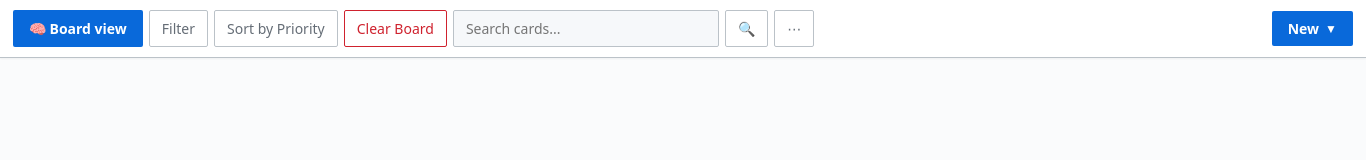
Test: KanbanToolbar › More Options Dropdown › should show more options dropdown when more button is clicked
The image size is (1366, 160).
Step 1. Click the button titled "More options" → (794, 28), box [774,10,814,47]
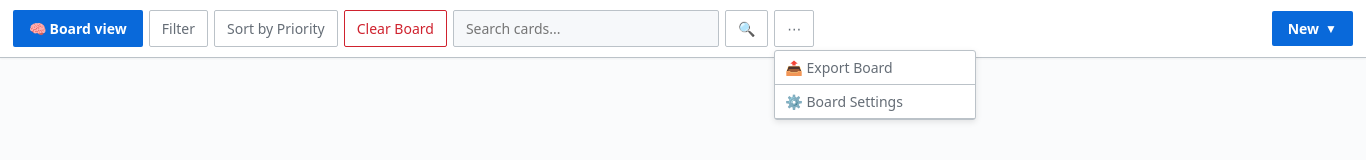
Check: the text "📤 Export Board" is shown, box [775,51,975,85]
Check: the text "⚙️ Board Settings" is shown, box [775,85,975,119]
